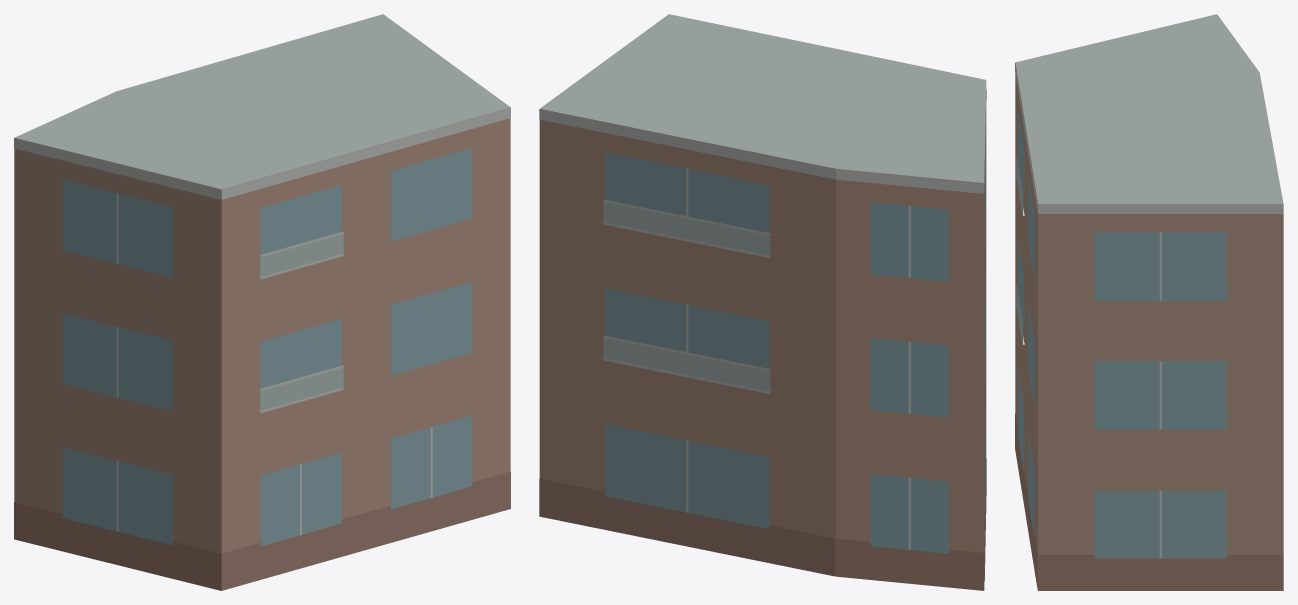
File: survey-upis-32467499.glb
The picture shows the model from 3 angles, left to right: view 1: azimuth 30°, elevation 25°; view 2: azimuth 150°, elevation 25°; view 3: azimuth 270°, elevation 25°; orthographic projection. The views are drawn at different scales.
Parts seen in each view (by area): view 1: survey-upis-32467499.tmp; view 2: survey-upis-32467499.tmp; view 3: survey-upis-32467499.tmp.
Boxes of the visible parts, x1,y1,x2,y2 form: survey-upis-32467499.tmp: [14, 14, 510, 590]; survey-upis-32467499.tmp: [539, 14, 986, 590]; survey-upis-32467499.tmp: [1015, 14, 1283, 590].
Size of the model in its own units: 9.64 by 9.15 by 5.76.
